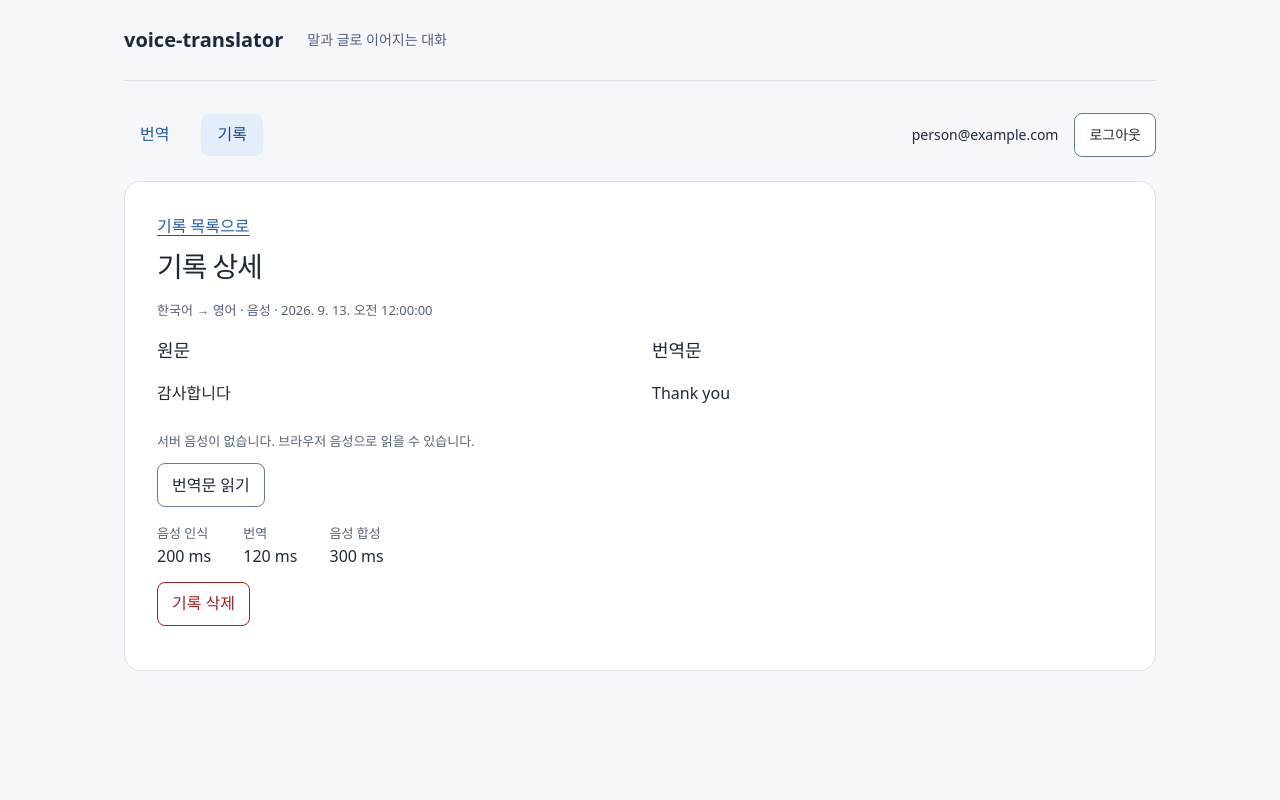
Test: keeps the detail and allows retry after deletion fails without exposing response input
Expected: the text "Thank you" is shown, [652,382,730,404]
Step 1. Click the button "기록 삭제" → (204, 604), box [157,582,250,626]
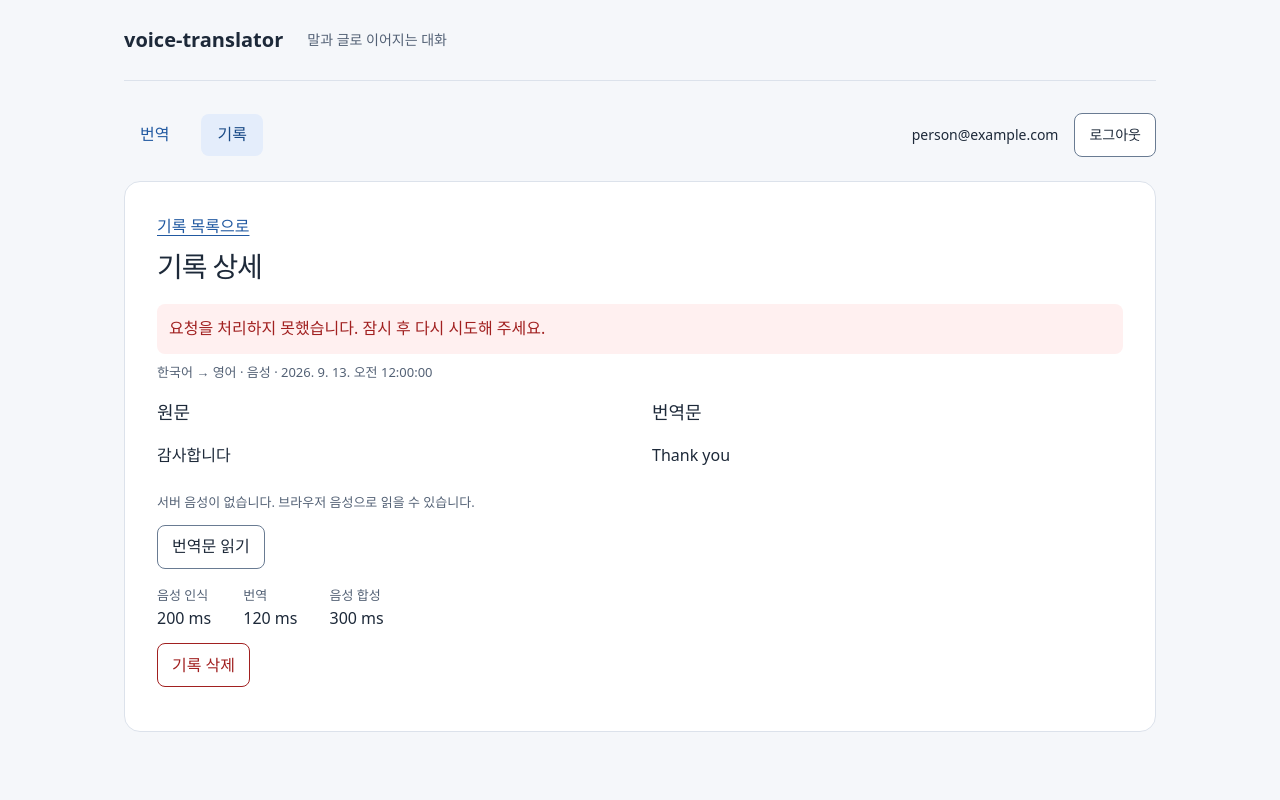
Expected: the button "기록 삭제" is enabled, [157,643,250,687]
Expected: the message shows "요청을 처리하지 못했습니다", [169,317,545,339]
